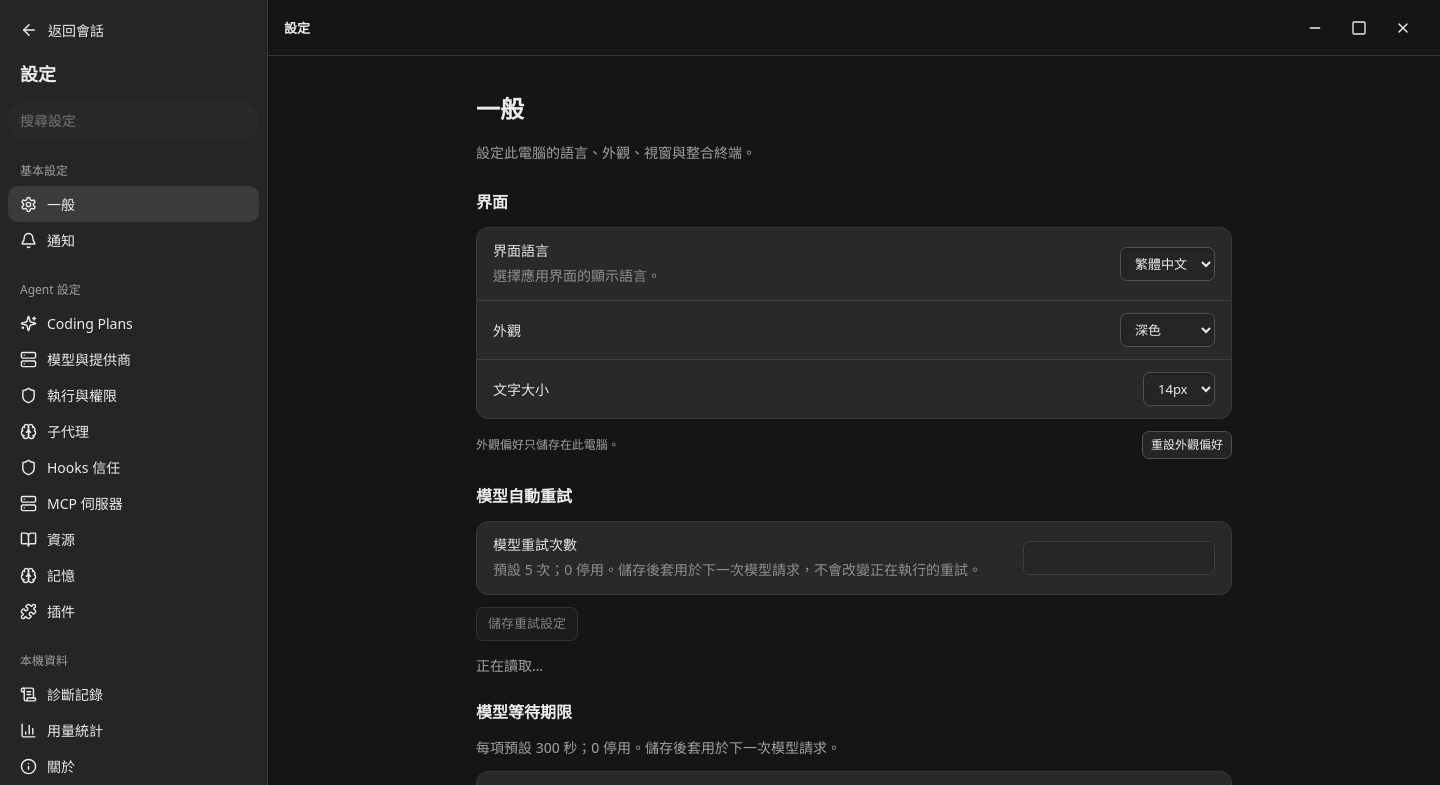
Scenario: exposes retry settings and Log without a selected workspace
expect the number field named "模型重試次數" is shown: met, box [1023,541,1215,575]
Click the button "診斷記錄" at (134, 694), box [8,676,259,712]
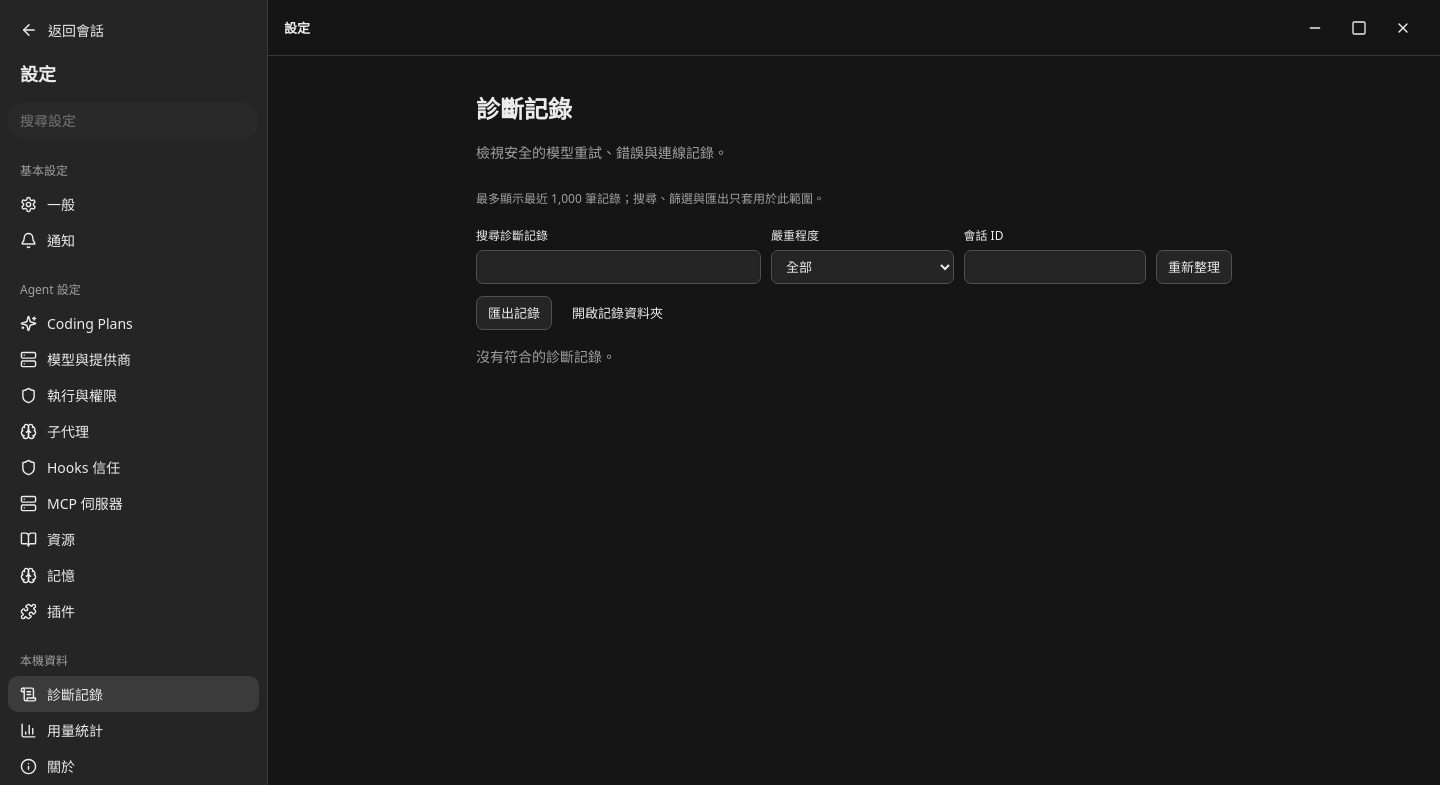
expect the text "沒有符合的診斷記錄。" is shown: met, box [476,347,616,366]
